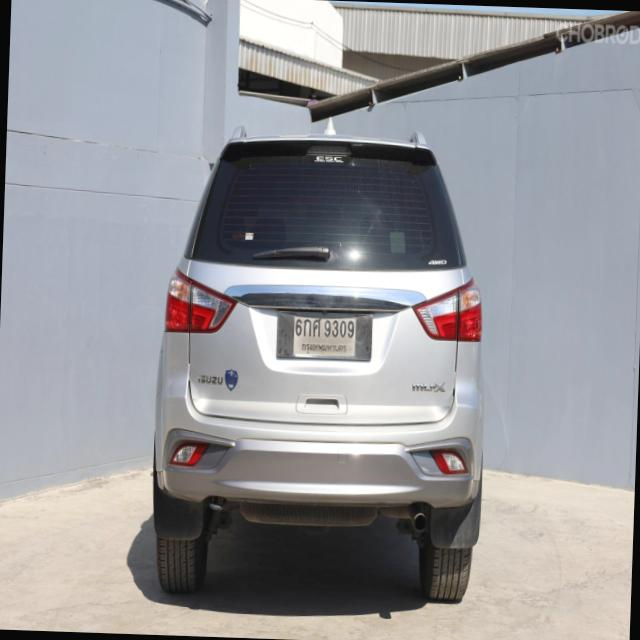license_plate: (290, 309, 357, 359)
